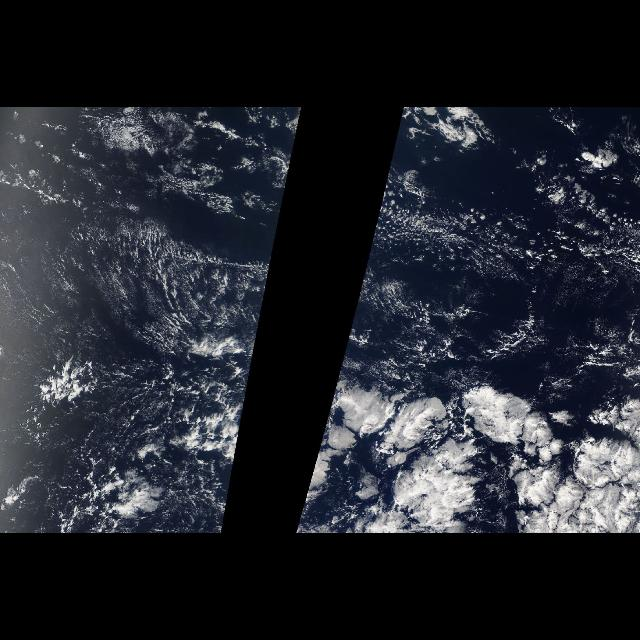Flower: (298, 374, 574, 524)
Sugar: (5, 228, 276, 356)
